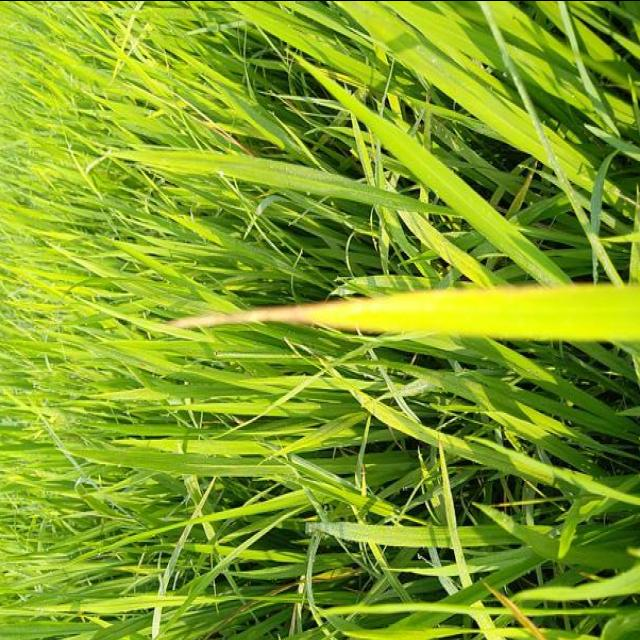Leaf Blight: (149, 286, 640, 340)
